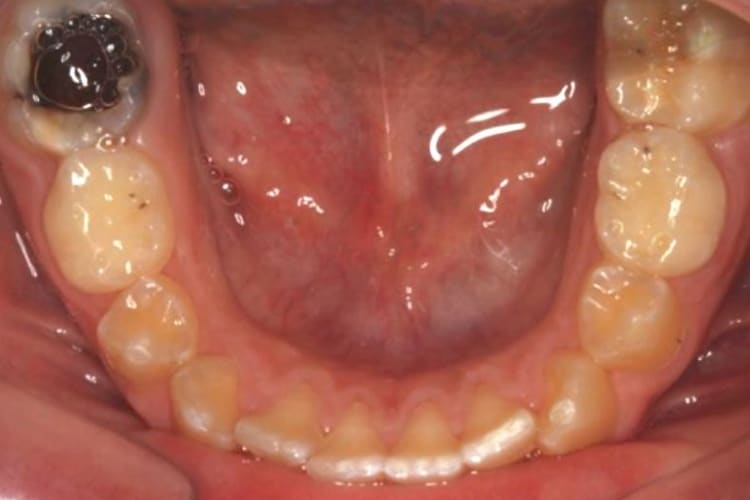LL1BC_healthy: (587, 271, 682, 367)
LL1M_healthy: (596, 131, 720, 269)
LL2M_healthy: (600, 1, 750, 124)
LLCI_healthy: (390, 401, 464, 475)
LLC_healthy: (540, 365, 614, 442)
LLLI_healthy: (470, 389, 530, 462)
LR1BC_healthy: (103, 293, 201, 369)
LR1M_decay: (14, 7, 146, 143)
LR2BC_decay: (44, 161, 175, 281)
LRCI_healthy: (316, 407, 378, 472)
LRC_healthy: (183, 362, 241, 440)
LRLI_healthy: (249, 390, 316, 461)
